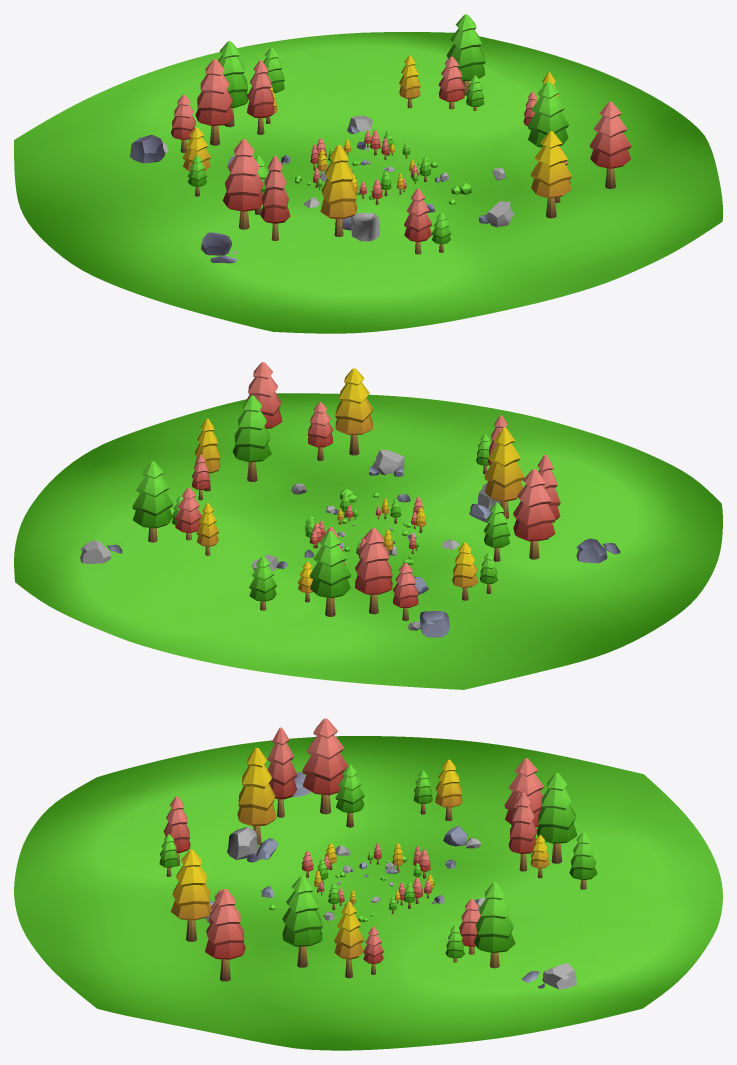
The model's file is Escena1.glb.
3 views of the same model, one above another, from view 1: azimuth 30°, elevation 25°; view 2: azimuth 150°, elevation 25°; view 3: azimuth 270°, elevation 25° (orthographic). The views are drawn at different scales.
Parts seen in each view (by area): view 1: Floor, treeRed14, treeRed20, treeYellow10, treeYellow9, treeRed17, treeGreen188, treeGreen21, treeRed13, treeGreen16, treeRed11, treeRed19 (+9 smaller); view 2: Floor, treeRed14, treeYellow9, treeGreen16, treeYellow10, treeRed17, treeGreen188, treeGreen21, treeRed20, treeGreen20, treeRed15, treeRed16 (+10 smaller); view 3: Floor, treeRed14, treeGreen21, treeYellow9, treeRed20, treeYellow10, treeGreen16, treeGreen188, treeRed13, treeRed17, treeRed11, treeYellow11 (+8 smaller).
Boxes of the visible parts, bbox=[...] form: Floor: bbox=[14, 32, 722, 333]; treeRed14: bbox=[222, 139, 263, 229]; treeRed20: bbox=[589, 101, 631, 188]; treeYellow10: bbox=[530, 131, 571, 218]; treeYellow9: bbox=[320, 145, 357, 236]; treeRed17: bbox=[195, 59, 234, 145]; treeGreen188: bbox=[446, 14, 485, 95]; treeGreen21: bbox=[527, 81, 568, 147]; treeRed13: bbox=[260, 156, 290, 240]; treeGreen16: bbox=[218, 41, 248, 127]; treeRed11: bbox=[247, 60, 274, 134]; treeRed19: bbox=[404, 188, 431, 254]; Floor: bbox=[14, 393, 722, 689]; treeRed14: bbox=[513, 469, 555, 559]; treeYellow9: bbox=[484, 427, 524, 518]; treeGreen16: bbox=[309, 531, 350, 616]; treeYellow10: bbox=[335, 368, 373, 455]; treeRed17: bbox=[355, 528, 392, 614]; treeGreen188: bbox=[132, 461, 173, 542]; treeGreen21: bbox=[232, 395, 271, 481]; treeRed20: bbox=[246, 362, 282, 429]; treeGreen20: bbox=[483, 502, 510, 561]; treeRed15: bbox=[307, 402, 333, 460]; treeRed16: bbox=[393, 562, 418, 620]; Floor: bbox=[14, 736, 722, 1050]; treeRed14: bbox=[302, 718, 348, 814]; treeGreen21: bbox=[282, 876, 322, 967]; treeYellow9: bbox=[237, 747, 276, 845]; treeRed20: bbox=[205, 889, 245, 981]; treeYellow10: bbox=[170, 849, 211, 941]; treeGreen16: bbox=[537, 773, 577, 863]; treeGreen188: bbox=[474, 882, 515, 968]; treeRed13: bbox=[267, 727, 297, 817]; treeRed17: bbox=[504, 758, 544, 827]; treeRed11: bbox=[508, 792, 536, 871]; treeYellow11: bbox=[334, 901, 363, 978].
Size of the model in its own units: 568 by 96.57 by 540.
7 materials, 7 textured.
